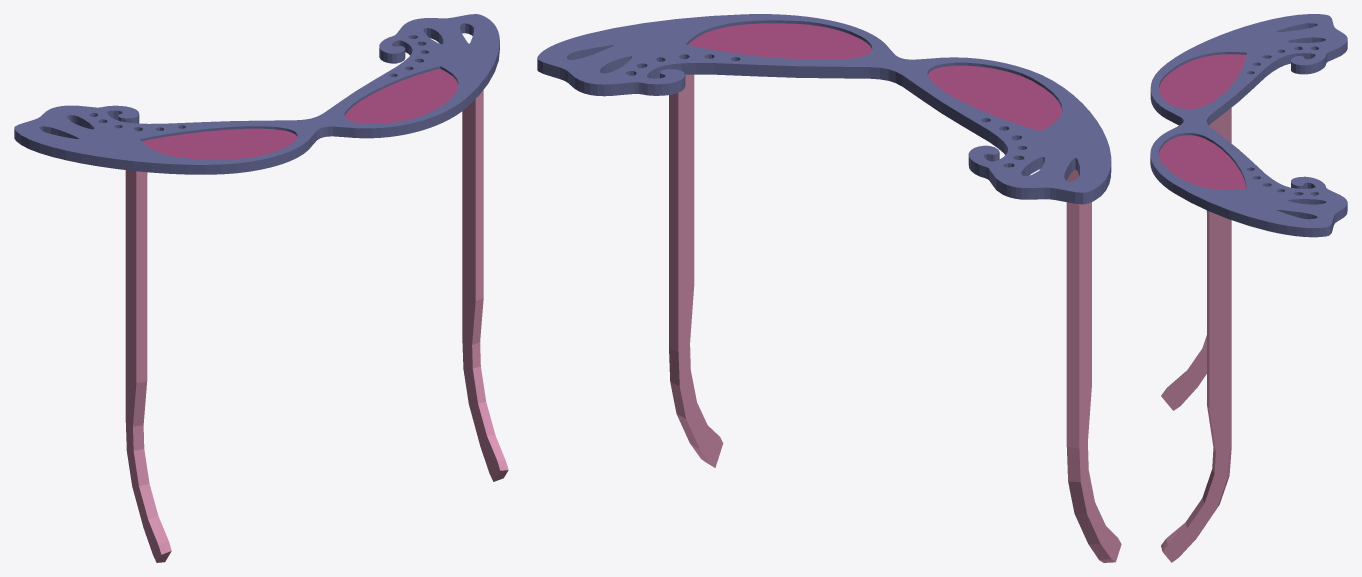
Rendered from asset.glb.
The picture shows the model from 3 angles, left to right: view 1: azimuth 30°, elevation 25°; view 2: azimuth 150°, elevation 25°; view 3: azimuth 270°, elevation 25°; orthographic projection. The views are drawn at different scales.
Parts seen in each view (by area): view 1: Mesh_Mesh_head_geo.001_lambert2SG.001; view 2: Mesh_Mesh_head_geo.001_lambert2SG.001; view 3: Mesh_Mesh_head_geo.001_lambert2SG.001.
Part boxes in pixels (bbox=[...]): Mesh_Mesh_head_geo.001_lambert2SG.001: bbox=[14, 14, 508, 562]; Mesh_Mesh_head_geo.001_lambert2SG.001: bbox=[537, 14, 1121, 562]; Mesh_Mesh_head_geo.001_lambert2SG.001: bbox=[1150, 14, 1347, 562].
Bounding box in the file's own units: 174 × 138 × 67.68.
